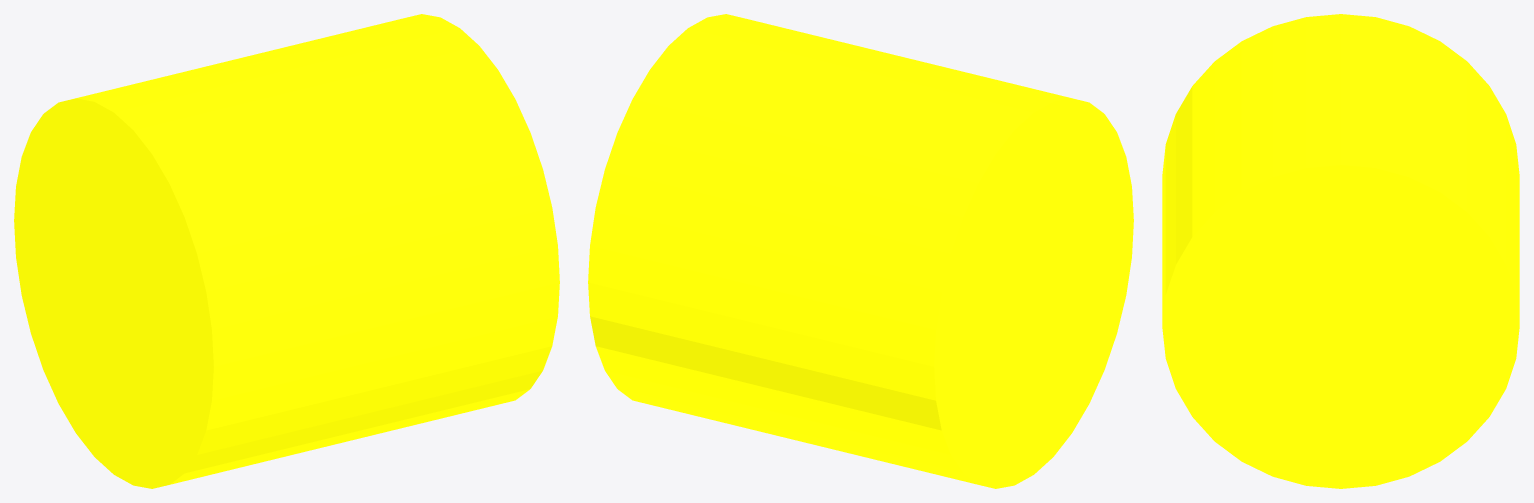
Rendered from UnitCylinderYellow.dae.
3 renders of one model, left to right at view 1: azimuth 30°, elevation 25°; view 2: azimuth 150°, elevation 25°; view 3: azimuth 270°, elevation 25°, orthographic. The views are drawn at different scales.
Parts seen in each view (by area): view 1: Cylinder; view 2: Cylinder; view 3: Cylinder.
Part boxes in pixels (box(x1,y1,x2,y2)): Cylinder: box(14, 14, 559, 488); Cylinder: box(588, 14, 1133, 488); Cylinder: box(1162, 14, 1519, 488).
Size of the model in its own units: 1 by 1 by 1.
